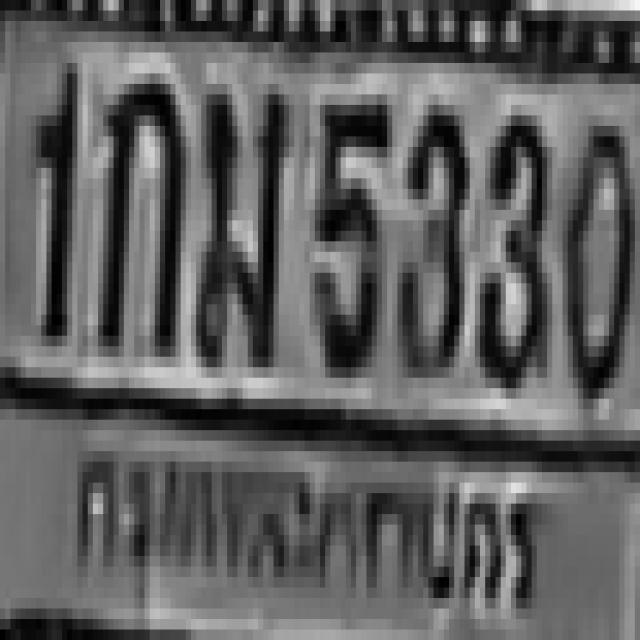0: (560, 115, 632, 388)
1: (31, 63, 76, 342)
10GorGai: (93, 74, 183, 354)
3: (393, 100, 467, 374), (478, 110, 545, 383)
42MorMa: (191, 84, 286, 367)
5: (310, 94, 387, 378)
Bangkok: (61, 418, 541, 622)
